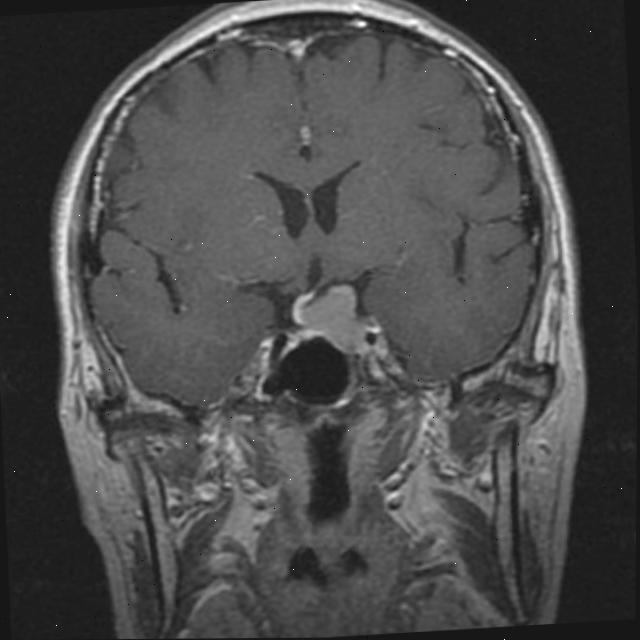Pituitary: (291, 284, 371, 357)
